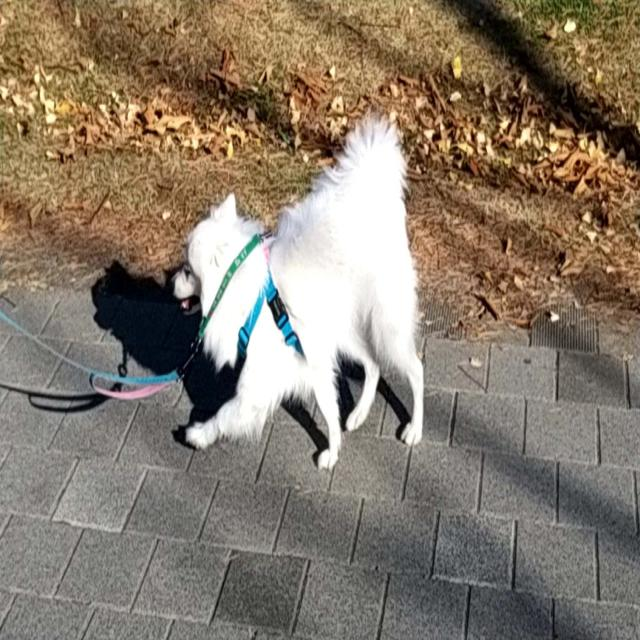Dog: (170, 105, 423, 472)
